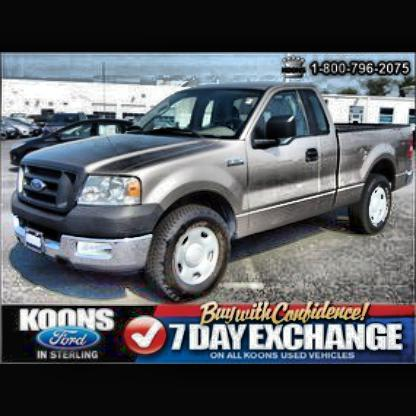Ford F-150 Regular Cab 2007: (10, 79, 416, 305)
